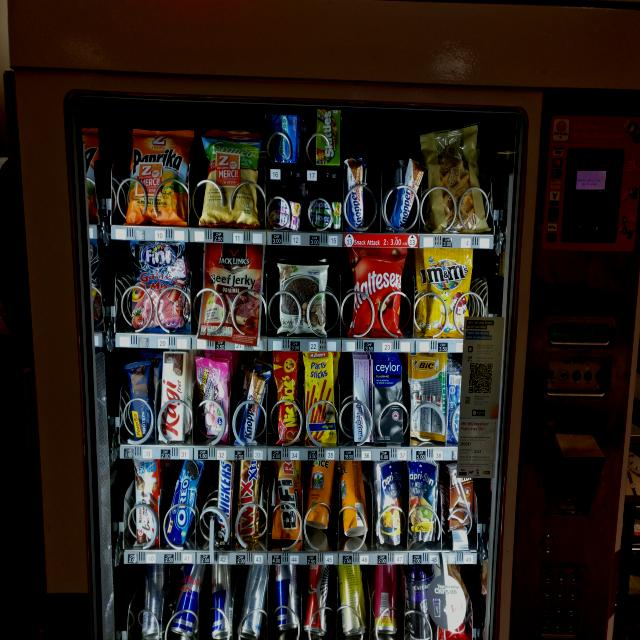airwaves_menthoneucalyptus_riegel_14_1_50173167: (270, 112, 300, 162)
bifi_roll__50__4251097402635: (272, 460, 304, 539)
bueno___43__4008400320328: (131, 458, 162, 547)
c-swiss_dosenabisicetea__33__9120025930135: (340, 456, 372, 536), (304, 457, 339, 530)
caferoyal_classicmacchiato__33__7617014164487: (406, 563, 436, 640)
caprisun_multivitamin__20__4000177605004: (377, 458, 406, 545), (410, 460, 439, 545)
coke__dose_33__54491472: (302, 564, 334, 636)
comella_schokodrink__33__7613100037253: (444, 461, 478, 536)
fini_galaxymix_packung_100_1_8410525150364: (130, 238, 190, 328)
fini_jellykisses_packung_80_1_8410525116704: (195, 354, 231, 443)
fuse_lemon_dose_33__5449000235947: (335, 561, 371, 637)
jacklinks_beefjerkyorginal__25__4047751730219: (198, 238, 264, 342)
jlbrichard_gauffre__90__5410495002000: (426, 122, 488, 231)
kagi___50__7610046000259: (159, 348, 187, 444)
knoppers_riegel____4035800488808: (238, 362, 268, 446), (392, 151, 421, 234), (341, 150, 368, 237)
lorenz_nicnacs__40__4018077798818: (271, 351, 302, 444)
malburner_partysticks__40__7610200279682: (303, 352, 339, 446)
maltesers___100__5000159023061: (350, 246, 404, 336)
mnms_gelb__45__40111445: (423, 244, 472, 338)
oreo___66__84100733: (164, 458, 202, 549)
powerbar_proteinplusschoko__55__4029679520028: (124, 360, 156, 438)
redbull___33__90162909: (172, 564, 208, 635), (270, 563, 304, 633), (208, 562, 238, 638), (140, 561, 169, 639), (238, 560, 268, 635)
skittles_sour_riegel_51_1_0000000000004: (314, 104, 343, 170)
snickers___50__5000159461122: (215, 457, 233, 548)
stimorol_spearmint_riegel_14_1_0000000000005: (306, 198, 343, 233)
stimorol_wildcherry_riegel_14_1_57060330: (272, 195, 302, 230)
tiki_himbeer_brause__50__00000000009342: (373, 563, 400, 635)
twix___50__5000159459228: (236, 456, 262, 550)
zweifel_graneochilli__100__7610095184009: (200, 125, 262, 228)
zweifel_paprika__90__7610095013002: (128, 120, 192, 222)
